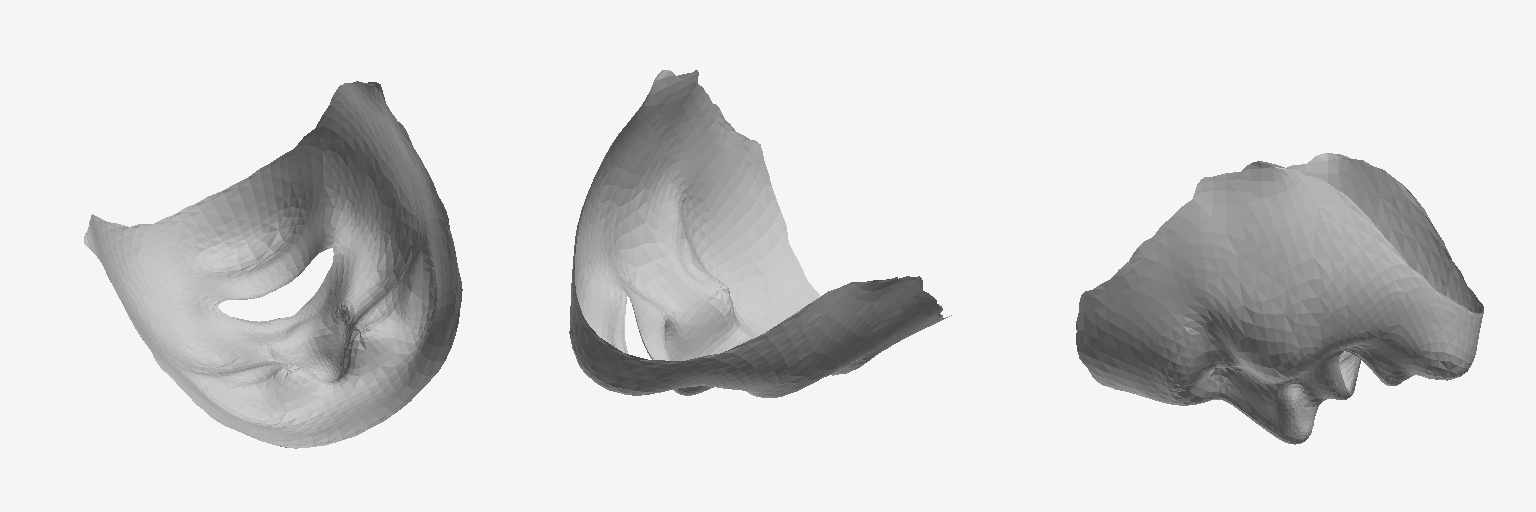
Rendered from face_gab_sfm92.obj.
The picture shows the model from 3 angles: view 1: azimuth 30°, elevation 25°; view 2: azimuth 150°, elevation 25°; view 3: azimuth 270°, elevation 25°; orthographic projection.
Size of the model in its own units: 167 by 163 by 199.